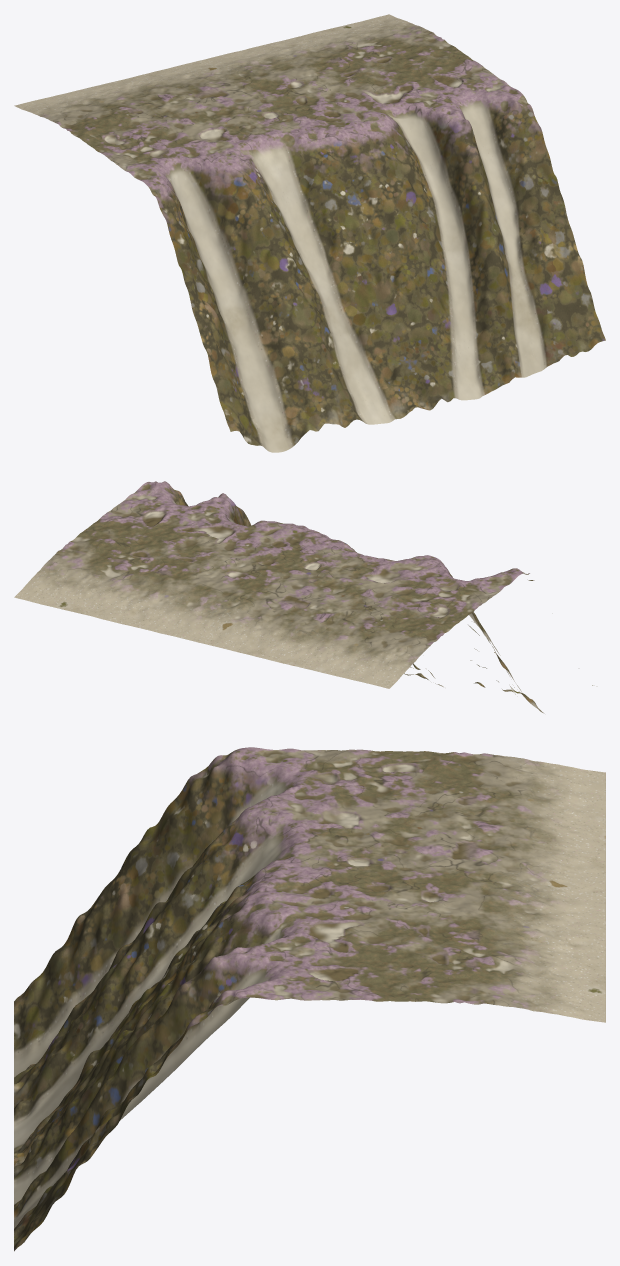
Rendered from ReefTerrain_Edge.gltf.
3 views of the same model, one above another, from view 1: azimuth 30°, elevation 25°; view 2: azimuth 150°, elevation 25°; view 3: azimuth 270°, elevation 25° (orthographic). The views are drawn at different scales.
Visible parts, largest first — view 1: ReefTerrain_Edge; view 2: ReefTerrain_Edge; view 3: ReefTerrain_Edge.
Part boxes in pixels (bbox=[...]): ReefTerrain_Edge: bbox=[14, 14, 605, 452]; ReefTerrain_Edge: bbox=[14, 481, 592, 713]; ReefTerrain_Edge: bbox=[14, 747, 605, 1251].
Size of the model in its own units: 40 by 22.29 by 40.
1 material, 1 textured.
